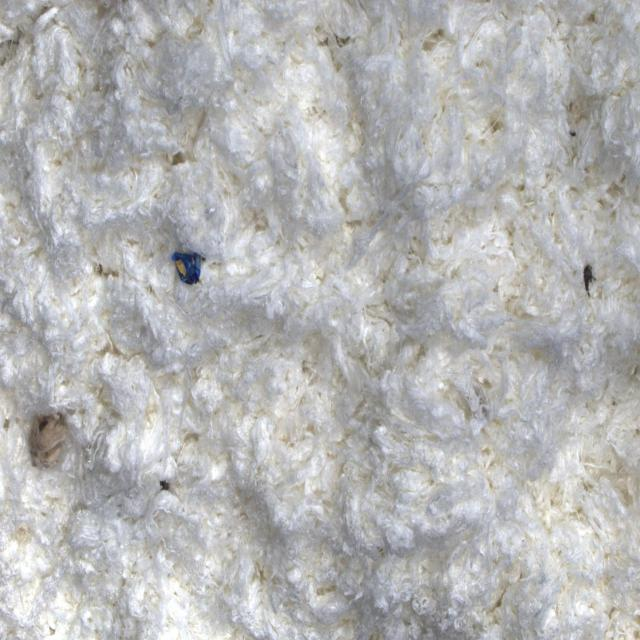dust: (25, 397, 80, 475), (168, 210, 217, 294), (574, 250, 604, 308)
